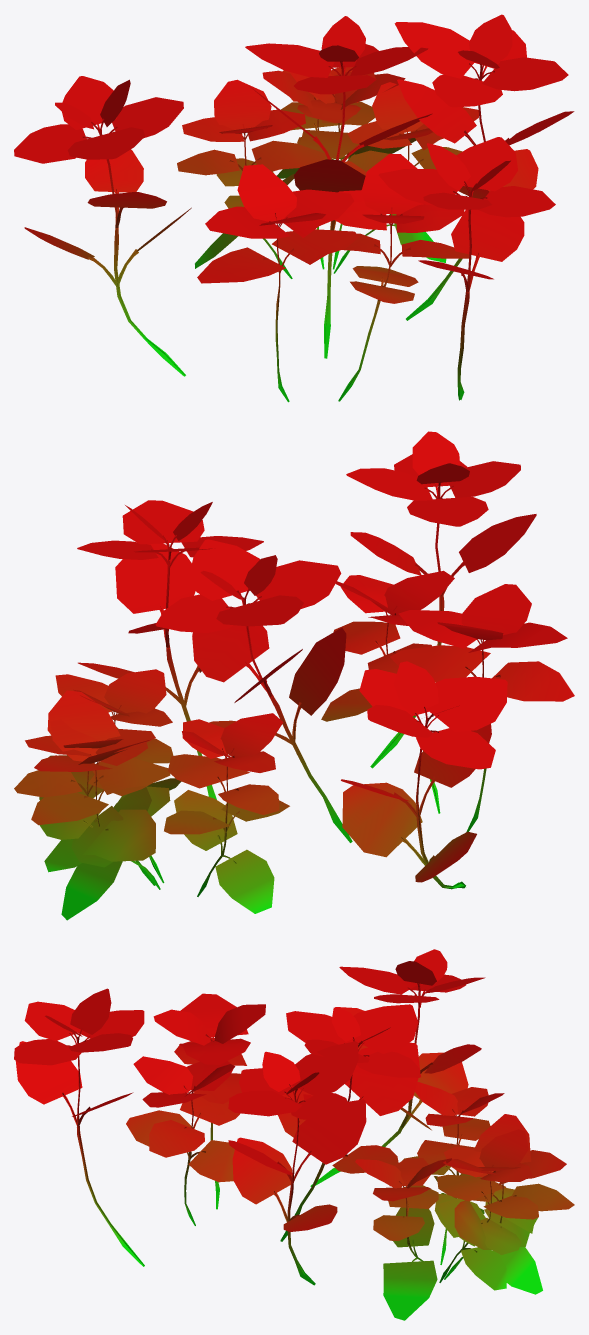
The model's file is Yellow Archangel_LOD1_Var8_wcwmcfvia.fbx.
3 renders of one model, top to bottom at view 1: azimuth 30°, elevation 25°; view 2: azimuth 150°, elevation 25°; view 3: azimuth 270°, elevation 25°, orthographic. The views are drawn at different scales.
Visible parts, largest first — view 1: _qqh6_Var8_LOD1; view 2: _qqh6_Var8_LOD1; view 3: _qqh6_Var8_LOD1.
Boxes of the visible parts, x1,y1,x2,y2 form: _qqh6_Var8_LOD1: [14, 14, 574, 402]; _qqh6_Var8_LOD1: [14, 431, 574, 920]; _qqh6_Var8_LOD1: [14, 949, 574, 1320].
Bounding box in the file's own units: 12.17 × 7.33 × 14.59.
